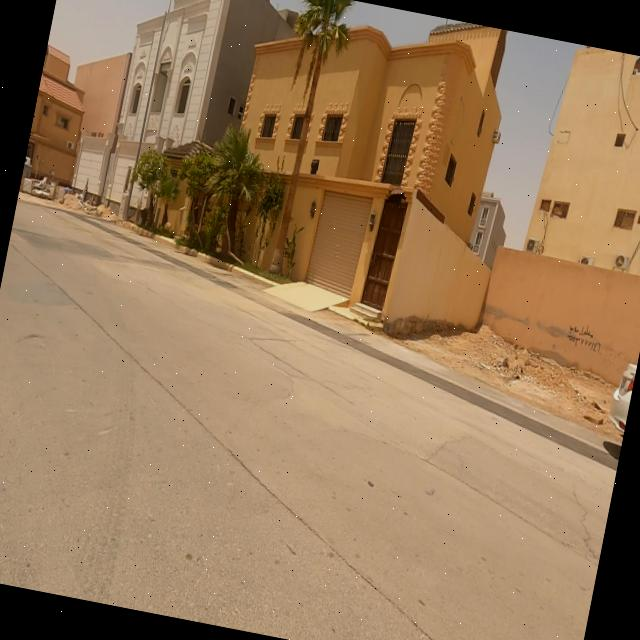Graffiti: (566, 322, 608, 357)
